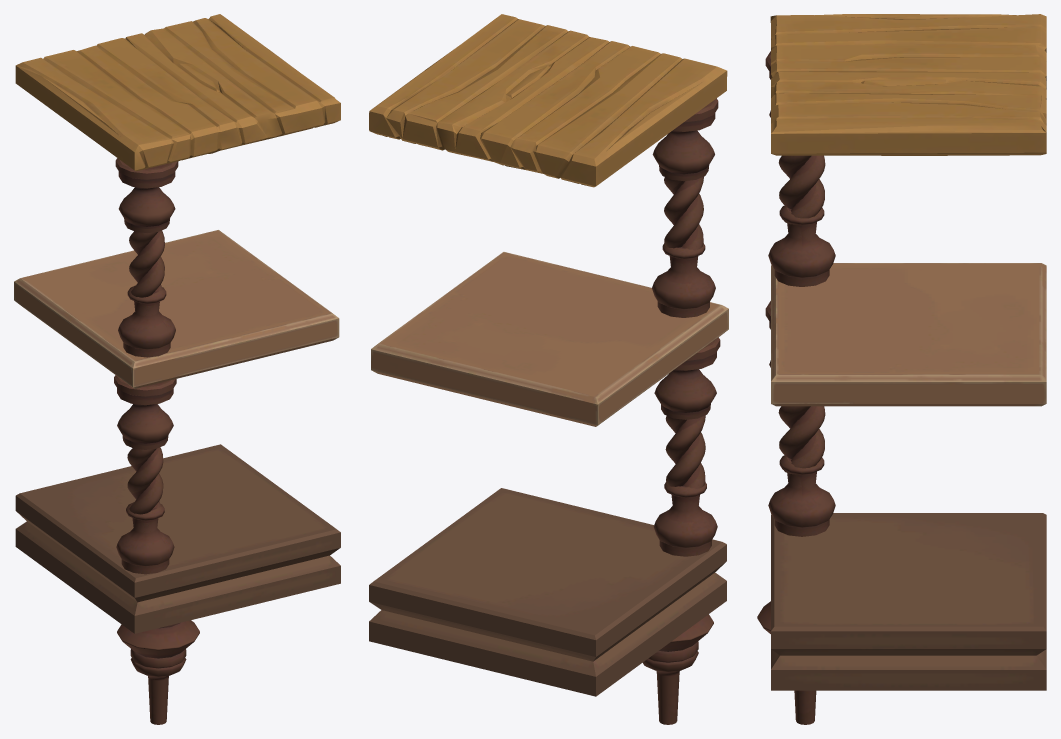
Rendered from ThreeTierSquareCornerFoot.fbx.
The picture shows the model from 3 angles, left to right: view 1: azimuth 30°, elevation 25°; view 2: azimuth 150°, elevation 25°; view 3: azimuth 270°, elevation 25°; orthographic projection. The views are drawn at different scales.
Visible parts, largest first — view 1: BaseSquareCornerFoot, TopSquareCornerFoot, MiddleSquareCornerFoot, middleStickPart3 (×2), middleStickPart1 (4) (×2), middleStickPart2 (×2), footStick (4); view 2: BaseSquareCornerFoot, TopSquareCornerFoot, MiddleSquareCornerFoot, middleStickPart1 (4) (×2), middleStickPart3 (×2), middleStickPart2 (×2), footStick (4); view 3: BaseSquareCornerFoot, TopSquareCornerFoot, MiddleSquareCornerFoot, middleStickPart1 (4) (×2), middleStickPart2 (×2), footStick (4).
Boxes of the visible parts, x1,y1,x2,y2 form: BaseSquareCornerFoot: [15, 444, 340, 633]; TopSquareCornerFoot: [15, 14, 340, 171]; MiddleSquareCornerFoot: [14, 230, 339, 388]; middleStickPart3 (×2): [114, 158, 178, 449]; middleStickPart1 (4) (×2): [116, 285, 175, 574]; middleStickPart2 (×2): [127, 230, 164, 518]; footStick (4): [117, 620, 199, 724]; BaseSquareCornerFoot: [369, 488, 726, 696]; TopSquareCornerFoot: [369, 14, 727, 187]; MiddleSquareCornerFoot: [371, 252, 728, 426]; middleStickPart1 (4) (×2): [652, 243, 717, 556]; middleStickPart3 (×2): [652, 98, 720, 419]; middleStickPart2 (×2): [664, 176, 705, 488]; footStick (4): [643, 614, 713, 724]; BaseSquareCornerFoot: [771, 513, 1046, 690]; TopSquareCornerFoot: [770, 14, 1046, 155]; MiddleSquareCornerFoot: [771, 263, 1046, 406]; middleStickPart1 (4) (×2): [768, 205, 835, 536]; middleStickPart2 (×2): [778, 155, 825, 474]; footStick (4): [757, 601, 816, 724].
Size of the model in its own units: 4.06 by 11 by 4.2.
